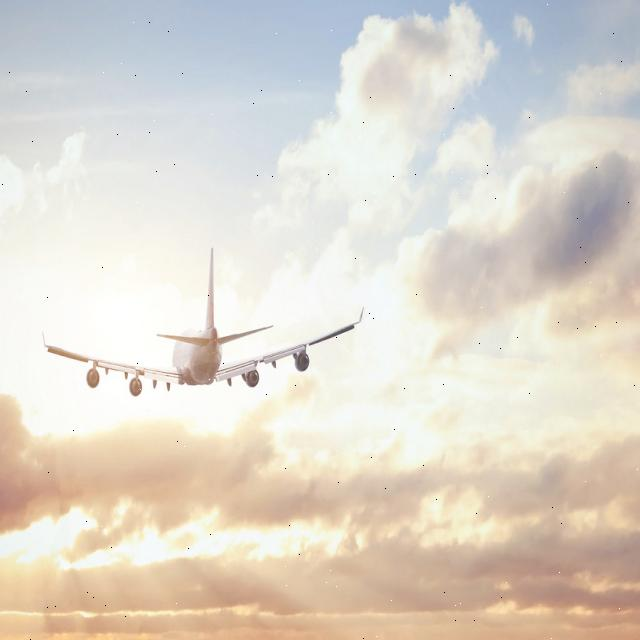aircraft: (5, 208, 387, 456)
